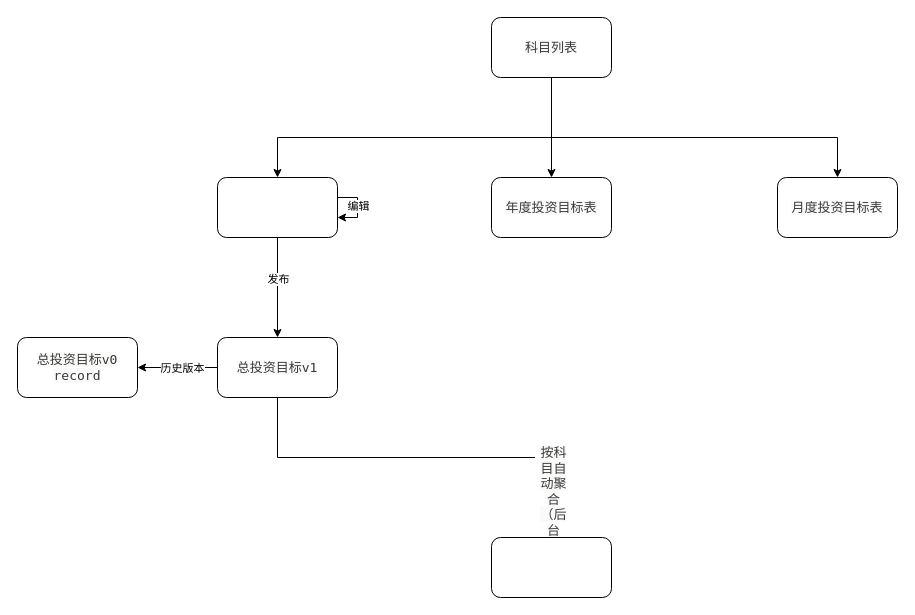
This 915x615 diagram has some shape labels left out. Each missing label, with the box of its shape:
总投资目标v0: (216, 176, 338, 238)
投资费用台账: (490, 536, 612, 598)
